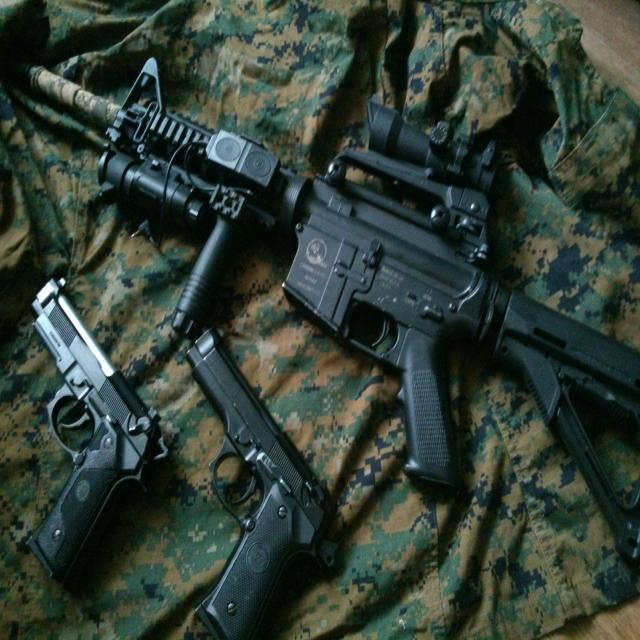firearm: (25, 55, 640, 570)
pistol: (183, 323, 339, 640), (23, 273, 171, 588)
